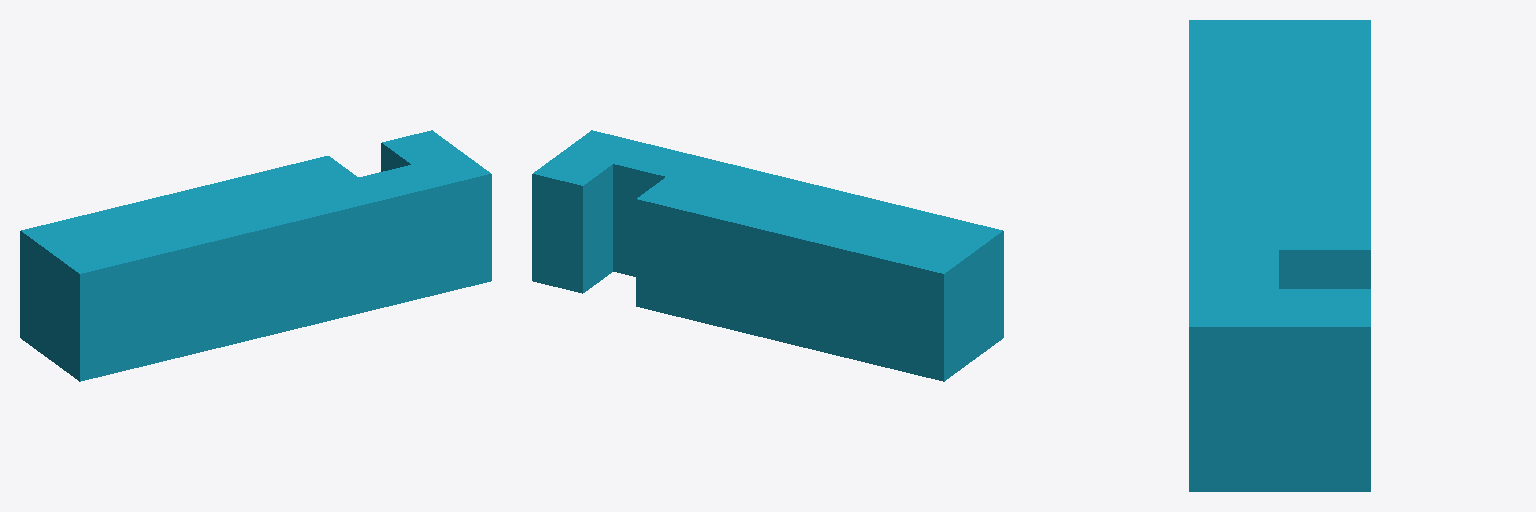
robot.urdf — obj_12:
<robot name="obj_12" version="1.0">
  <link name="obj_12">
    <collision name="interlocking-puzzle-7-collision.001">
      <origin rpy="0.00000 0.00000 0.00000" xyz="-0.44817 0.41396 0.31768"/>
      <geometry>
        <mesh filename="../meshes/obj/interlocking-puzzle-7-collision.001.obj" scale="2.09740 2.09740 2.09740"/>
      </geometry>
    </collision>
    <collision name="interlocking-puzzle-7-collision.002">
      <origin rpy="0.00000 0.00000 0.00000" xyz="-0.21938 0.37428 0.31768"/>
      <geometry>
        <mesh filename="../meshes/obj/interlocking-puzzle-7-collision.002.obj" scale="2.09740 2.09740 2.09740"/>
      </geometry>
    </collision>
    <collision name="interlocking-puzzle-7-collision.003">
      <origin rpy="0.00000 0.00000 0.00000" xyz="-0.15087 0.41388 0.31053"/>
      <geometry>
        <mesh filename="../meshes/obj/interlocking-puzzle-7-collision.003.obj" scale="2.09740 2.09740 2.09740"/>
      </geometry>
    </collision>
    <inertial>
      <inertia ixx="0.00058" ixy="-0.00024" ixz="-0.00000" iyy="0.00581" iyz="-0.00000" izz="0.00586"/>
      <origin rpy="0.00000 0.00000 0.00000" xyz="-0.42989 0.41149 0.31752"/>
      <mass value="0.03000"/>
    </inertial>
    <visual name="interlocking-puzzle-7">
      <material name="Light Blue"/>
      <origin rpy="3.14159 0.00000 3.14159" xyz="-0.31783 0.43357 0.31752"/>
      <geometry>
        <mesh filename="../meshes/obj/interlocking-puzzle-7.obj" scale="0.01049 0.01049 0.01049"/>
      </geometry>
    </visual>
  </link>
  <material name="Light Blue">
    <color rgba="0.15294 0.68627 0.80000 1.00000"/>
  </material>
</robot>

--- Facts derived from the render (not from the file) ---
The picture shows the robot from 3 angles, left to right: view 1: azimuth 30°, elevation 25°; view 2: azimuth 150°, elevation 25°; view 3: azimuth 270°, elevation 25°; orthographic projection.
Model obj_12 with 1 links and 0 joints (none), rooted at obj_12, posed every joint at zero.
Visible links, largest first — view 1: obj_12; view 2: obj_12; view 3: obj_12.
Boxes of the visible links, x1,y1,x2,y2 form: obj_12: [20, 130, 491, 381]; obj_12: [532, 130, 1003, 381]; obj_12: [1189, 20, 1370, 491].
Size in the robot's own frame: 0.6294 by 0.1574 by 0.1574 metres.
1 mesh visuals loaded from 1 distinct referenced files (1 OBJ).